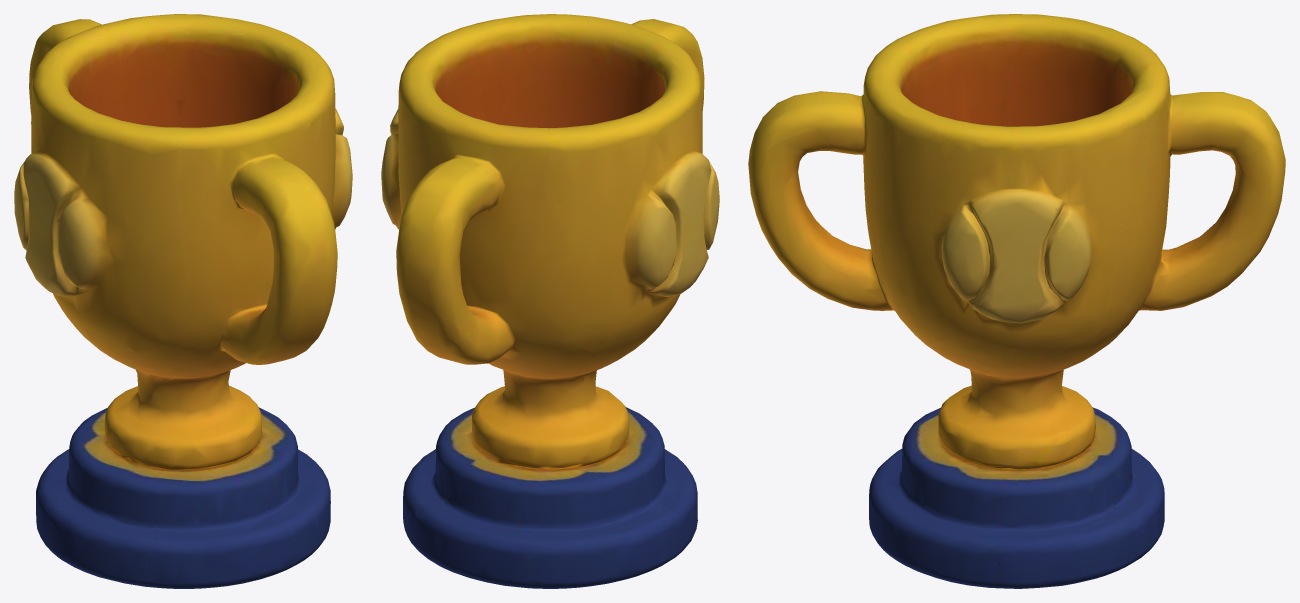
File: trophy.glb
3 views of the same model, side by side, from view 1: azimuth 30°, elevation 25°; view 2: azimuth 150°, elevation 25°; view 3: azimuth 270°, elevation 25° (orthographic).
Parts seen in each view (by area): view 1: tripo_node_d4b3b5a2-4528-47f3-af5b-3954ba580d50; view 2: tripo_node_d4b3b5a2-4528-47f3-af5b-3954ba580d50; view 3: tripo_node_d4b3b5a2-4528-47f3-af5b-3954ba580d50.
Part boxes in pixels (x1,y1,x2,y2): tripo_node_d4b3b5a2-4528-47f3-af5b-3954ba580d50: [14, 14, 352, 588]; tripo_node_d4b3b5a2-4528-47f3-af5b-3954ba580d50: [381, 14, 719, 588]; tripo_node_d4b3b5a2-4528-47f3-af5b-3954ba580d50: [748, 14, 1285, 588].
Size of the model in its own units: 0.617 by 0.9414 by 1.
Materials: 1 (1 with a texture image).
